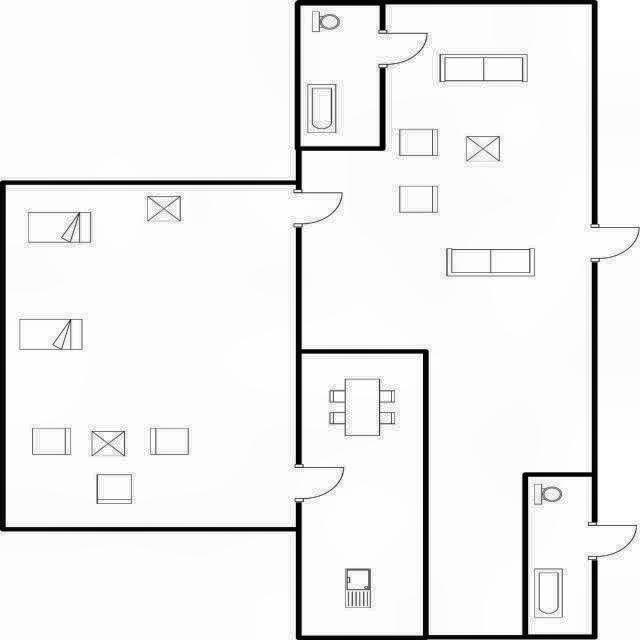room: (302, 4, 592, 635), (6, 185, 296, 527), (302, 354, 423, 636), (300, 5, 380, 146), (528, 477, 592, 634)
